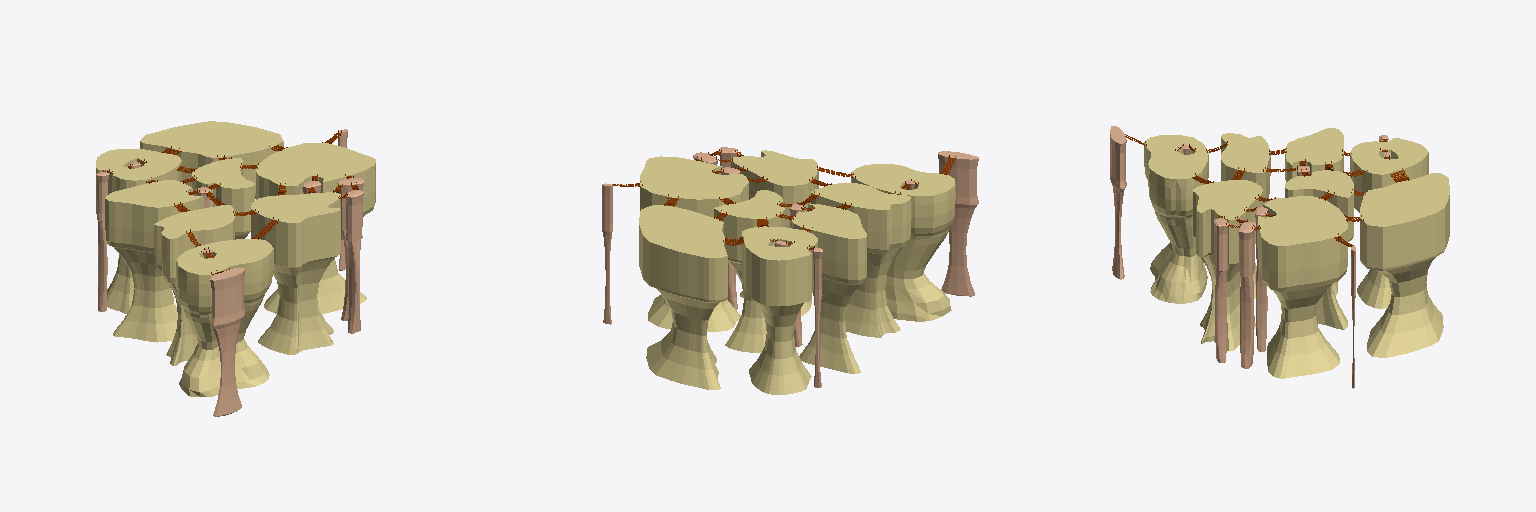
File: map.obj
3 renders of one model, left to right at view 1: azimuth 30°, elevation 25°; view 2: azimuth 150°, elevation 25°; view 3: azimuth 270°, elevation 25°, orthographic.
Visible parts, largest first — view 1: GN, JN, CHN, GB, Gangwon, JB, Gyeonggi, Jeju, CHB, Busan, Incheon, WoolSan; view 2: Gangwon, Gyeonggi, JN, CHN, JB, GB, CHB, Jeju, GN, Dokdo, Incheon; view 3: Gangwon, GB, JN, GN, Gyeonggi, CHB, JB, CHN, WoolSan, Busan, Jeju, DaeGoo.
Boxes of the visible parts, <box> form: GN: <box>251,192,340,354</box>; JN: <box>176,239,273,396</box>; CHN: <box>105,180,203,342</box>; GB: <box>256,142,375,313</box>; Gangwon: <box>140,121,283,275</box>; JB: <box>154,205,234,365</box>; Gyeonggi: <box>96,149,181,313</box>; Jeju: <box>210,267,244,416</box>; CHB: <box>192,158,254,239</box>; Busan: <box>345,190,363,333</box>; Incheon: <box>96,172,109,311</box>; WoolSan: <box>337,178,363,320</box>; Gangwon: <box>639,205,727,389</box>; Gyeonggi: <box>742,226,817,394</box>; JN: <box>851,164,955,321</box>; CHN: <box>792,204,866,373</box>; JB: <box>811,182,911,337</box>; GB: <box>640,156,748,331</box>; CHB: <box>714,190,784,352</box>; Jeju: <box>938,151,978,296</box>; GN: <box>731,150,818,315</box>; Dokdo: <box>602,183,612,324</box>; Incheon: <box>812,247,822,387</box>; Gangwon: <box>1360,173,1449,357</box>; GB: <box>1258,196,1347,378</box>; JN: <box>1144,135,1208,303</box>; GN: <box>1193,180,1262,351</box>; Gyeonggi: <box>1350,138,1428,308</box>; CHB: <box>1285,170,1353,329</box>; JB: <box>1221,133,1270,298</box>; CHN: <box>1285,128,1343,295</box>; WoolSan: <box>1238,221,1255,368</box>; Busan: <box>1214,218,1228,362</box>; Jeju: <box>1110,126,1126,279</box>; DaeGoo: <box>1255,207,1267,351</box>.
Size of the model in its own units: 114 by 60.56 by 131.